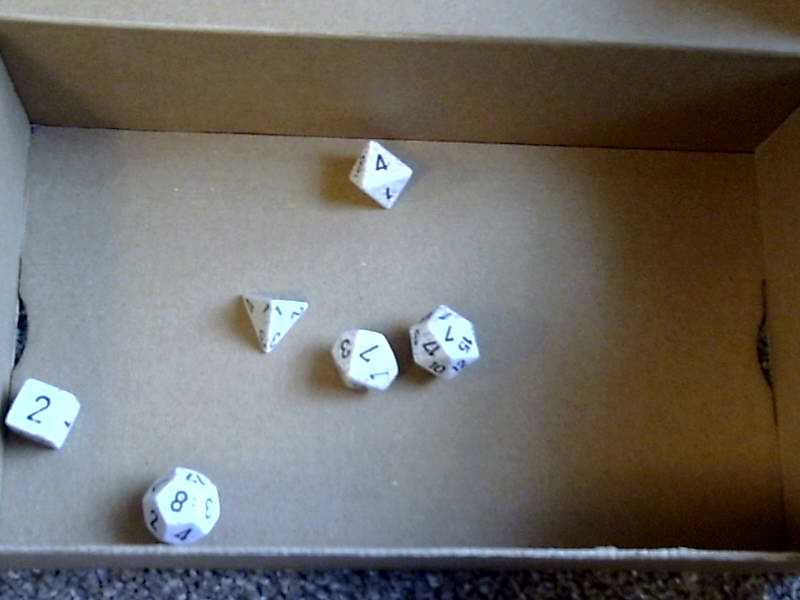d10 7: (319, 323, 402, 402)
d12 8: (134, 460, 229, 553)
d20 7: (404, 297, 484, 387)
d4 1: (231, 286, 310, 363)
d6 2: (0, 367, 83, 461)
d8 4: (338, 132, 417, 219)
